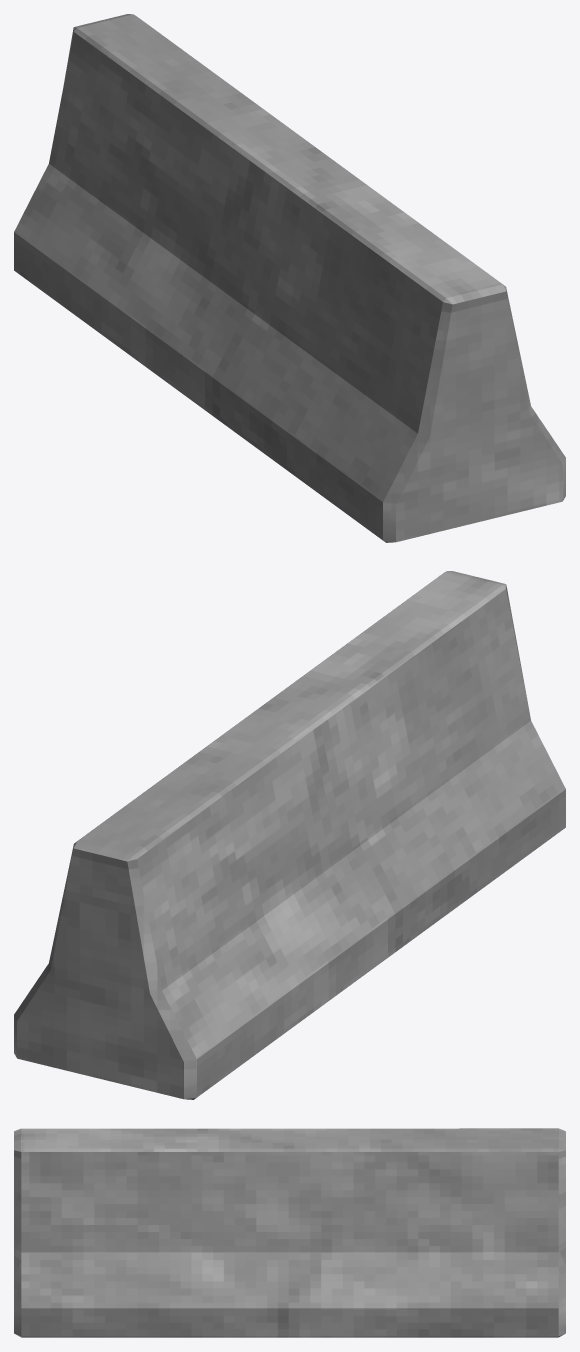
Rendered from Pivote_piedra.fbx.
3 views of the same model, one above another, from view 1: azimuth 30°, elevation 25°; view 2: azimuth 150°, elevation 25°; view 3: azimuth 270°, elevation 25° (orthographic). The views are drawn at different scales.
Visible parts, largest first — view 1: Asset_cemento_2; view 2: Asset_cemento_2; view 3: Asset_cemento_2.
Boxes of the visible parts, left/top/right/bottom form: Asset_cemento_2: left=14, top=14, right=565, bottom=542; Asset_cemento_2: left=14, top=571, right=565, bottom=1099; Asset_cemento_2: left=14, top=1128, right=565, bottom=1337.
Bounding box in the file's own units: 38.91 × 46.78 × 140.
1 material, 1 textured.
